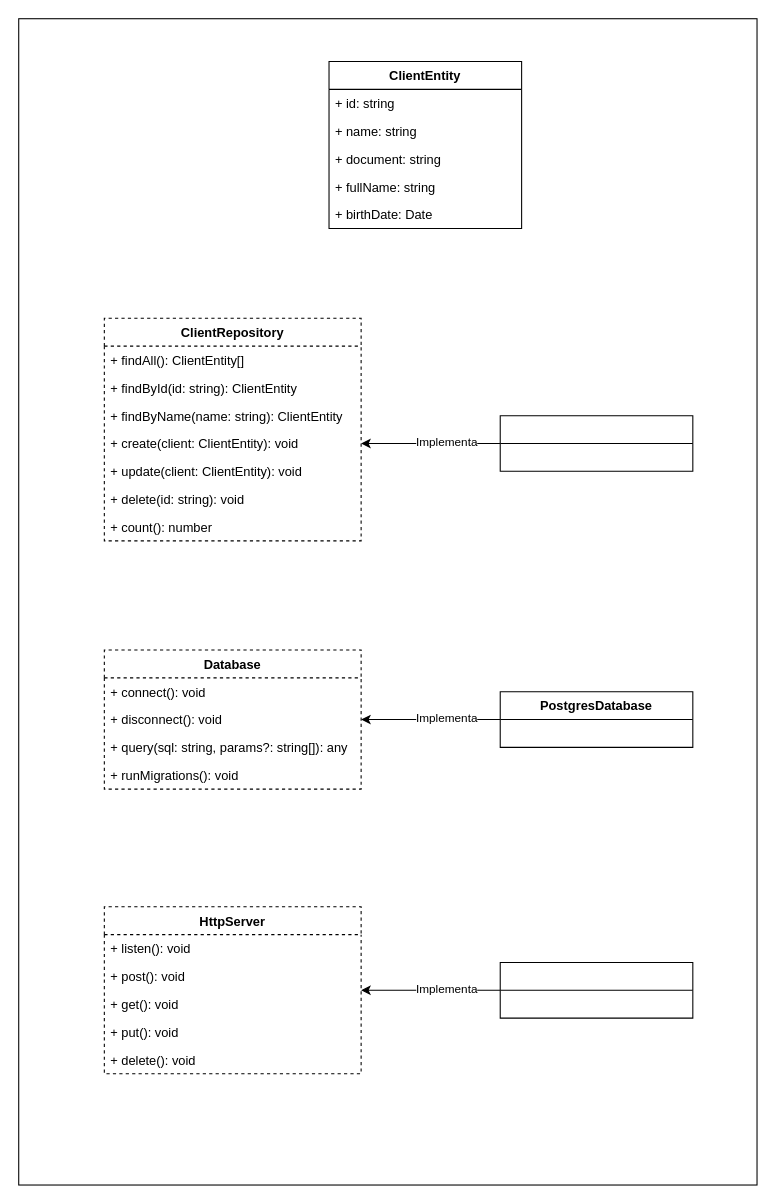
This 776x1204 diagram has some shape labels left out. The centre of each missing label's shape, as x and y in pixels:
"ClientPostgresRepository" belongs at (596,443).
"FastifyHttpServer" belongs at (596,989).
